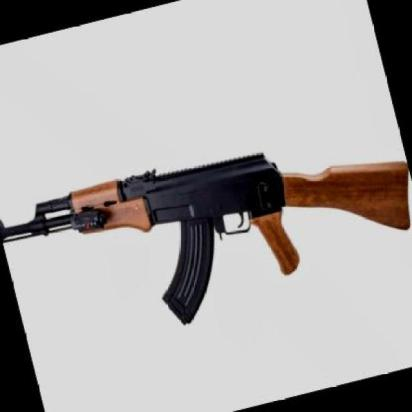Gun: (0, 71, 412, 382)
